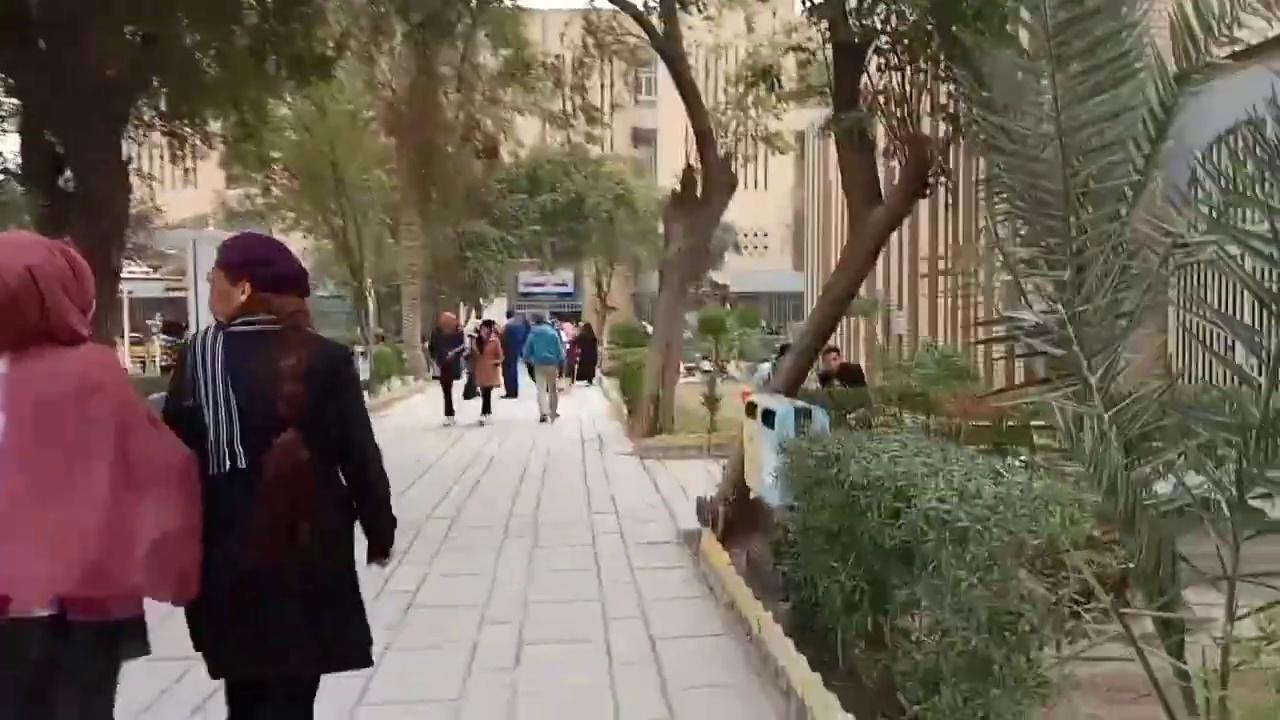person: (161, 230, 397, 719), (0, 227, 204, 719), (818, 344, 872, 429), (428, 310, 467, 426), (819, 344, 867, 388), (368, 327, 397, 399)
tree: (930, 0, 1278, 679), (0, 0, 329, 350), (769, 416, 1121, 718), (578, 0, 811, 437), (319, 0, 556, 381), (760, 0, 966, 401), (1159, 80, 1279, 716), (258, 72, 400, 393), (490, 138, 664, 350), (696, 302, 730, 433)
